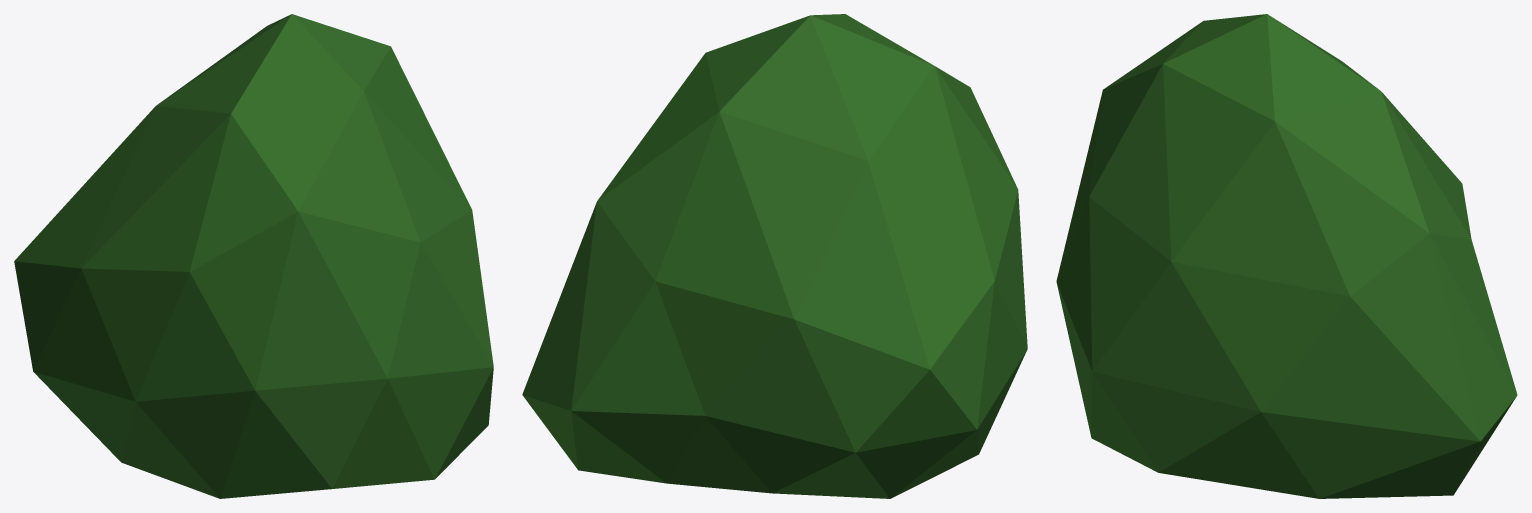
Rendered from arbusto1.obj.
The picture shows the model from 3 angles, left to right: view 1: azimuth 30°, elevation 25°; view 2: azimuth 150°, elevation 25°; view 3: azimuth 270°, elevation 25°; orthographic projection. The views are drawn at different scales.
Visible parts, largest first — view 1: NaturePack_Bush1; view 2: NaturePack_Bush1; view 3: NaturePack_Bush1.
Part boxes in pixels (<box>): NaturePack_Bush1: <box>14,14,493,498</box>; NaturePack_Bush1: <box>522,14,1027,498</box>; NaturePack_Bush1: <box>1056,14,1517,498</box>.
Bounding box in the file's own units: 2.56 × 2.66 × 2.65.
1 material, 1 textured.
